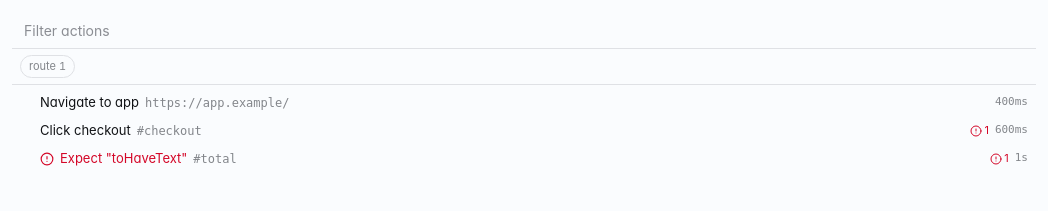
ActionList — grouped actions hidden by default › clicking the chip reveals the row and persists the choice to localStorage
Check: the text "Route.continue" is not shown
Click the button "route 1" at (48, 66), box x1=20 y1=55 x2=75 y2=78
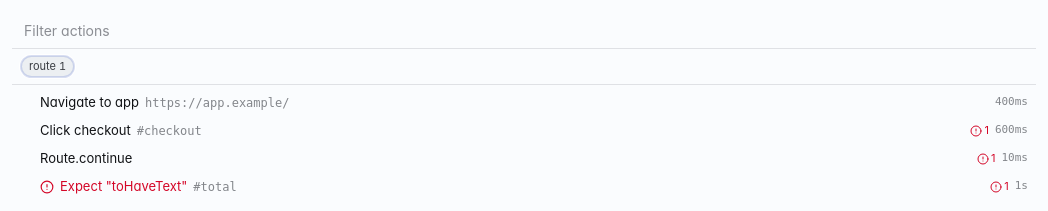
Check: the text "Route.continue" is shown, box x1=40 y1=149 x2=132 y2=168
